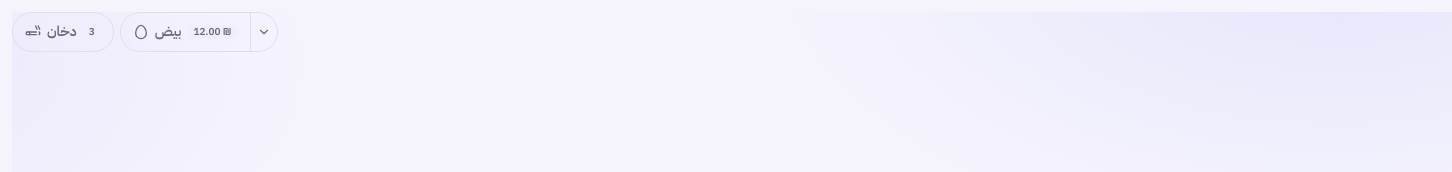
it: a card holding exactly one product › still reaches its + and X through the chevron
The image size is (1452, 172).
Click the button with test id "quick-card-eggs-menu": (263, 32) [250,13,277,51]
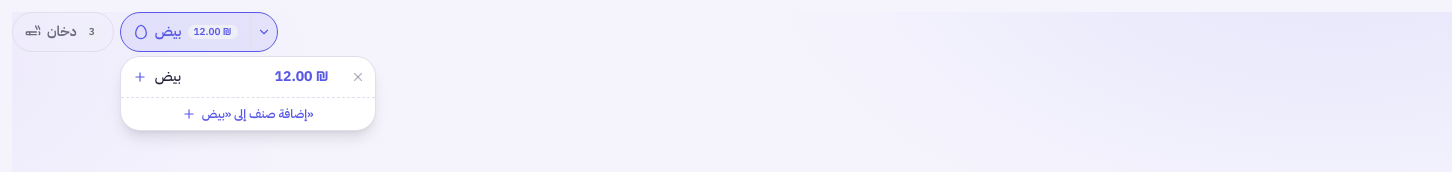
Check: the button "إضافة صنف إلى «بيض»" is shown, box [121,97,375,130]
Check: the button named "إزالة من هذه المجموعة" is shown, box [345,64,371,90]
